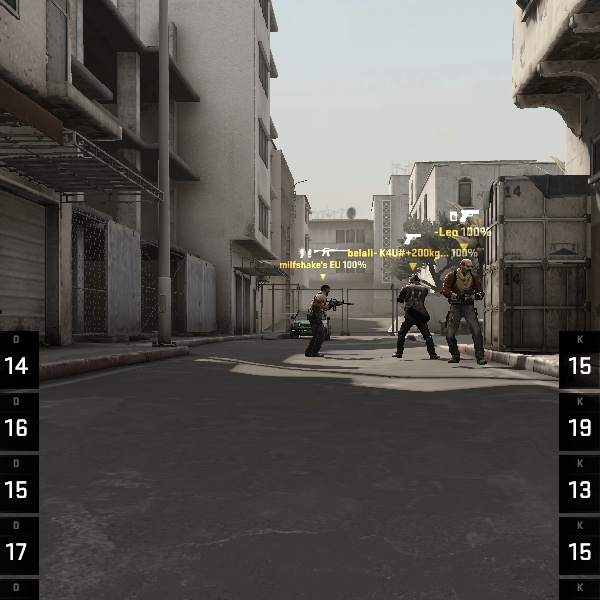t_body: (434, 255, 493, 365), (387, 267, 441, 362), (299, 281, 343, 358)
